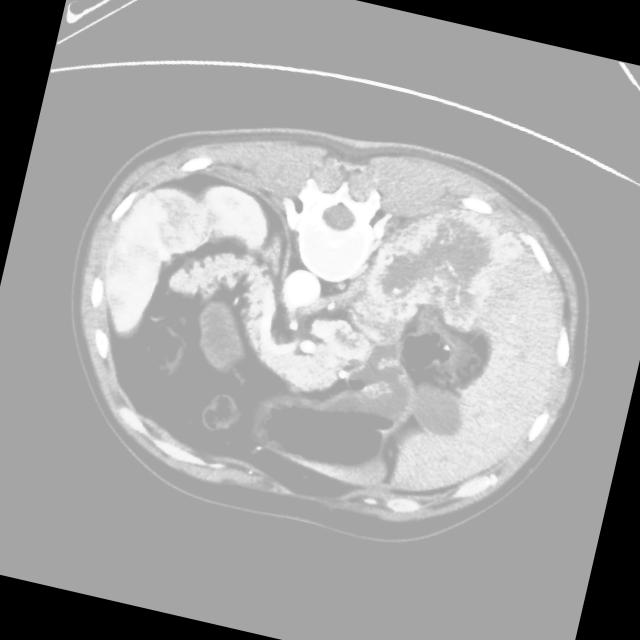TUMOR: (26, 191, 478, 531)
